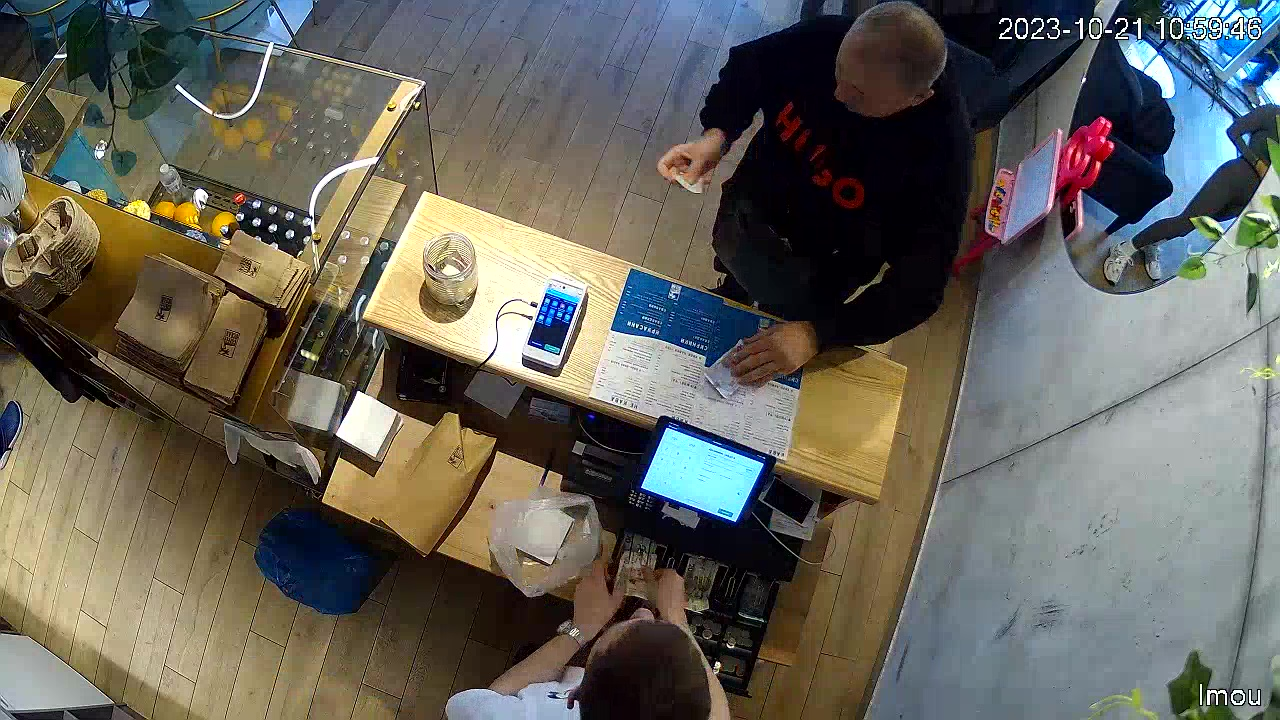openedcash: (606, 496, 782, 689)
